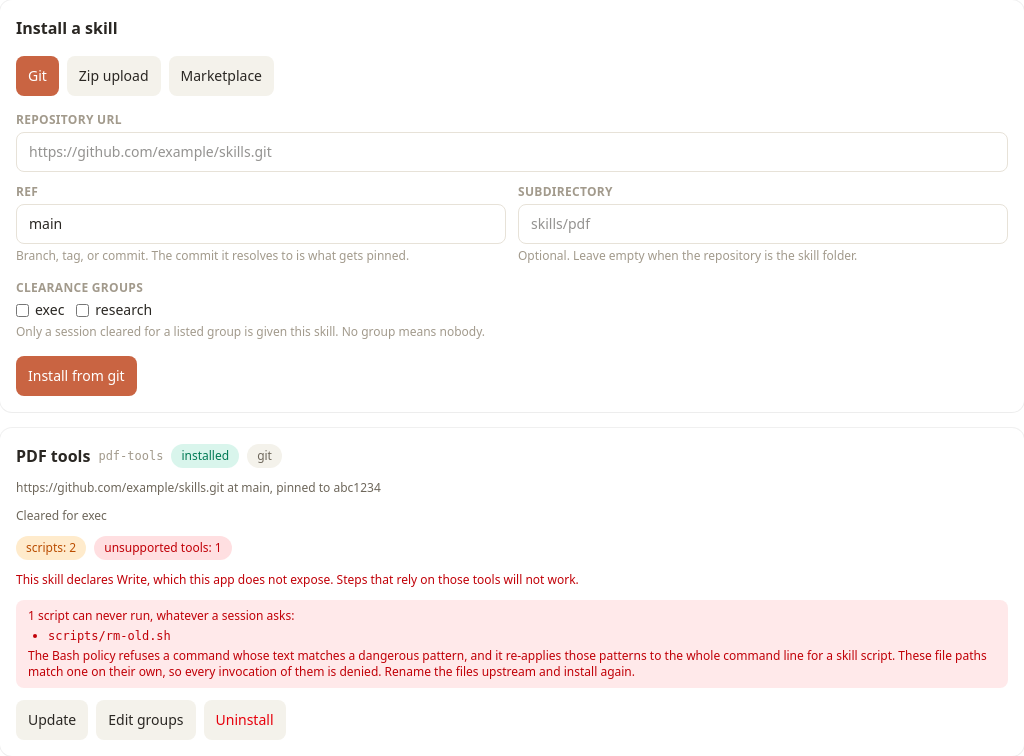
Test: SkillsAdmin outcome reporting › reports a store directory that survived an uninstall instead of claiming a clean removal
The width and height of the screenshot is (1024, 756).
Click the button with aria-label "Uninstall pdf-tools": (244, 720) 204,700 -> 286,740
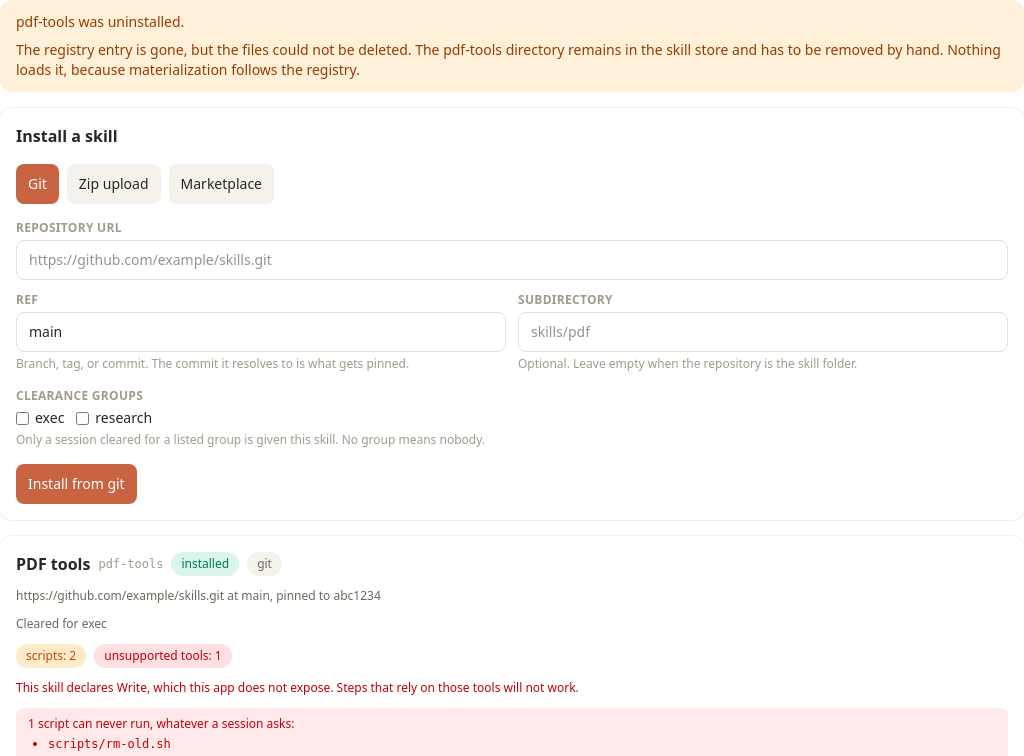
Expected: the message shows "could not be deleted", 16,40 -> 443,59
Expected: the message shows "by hand", 16,40 -> 1001,79
